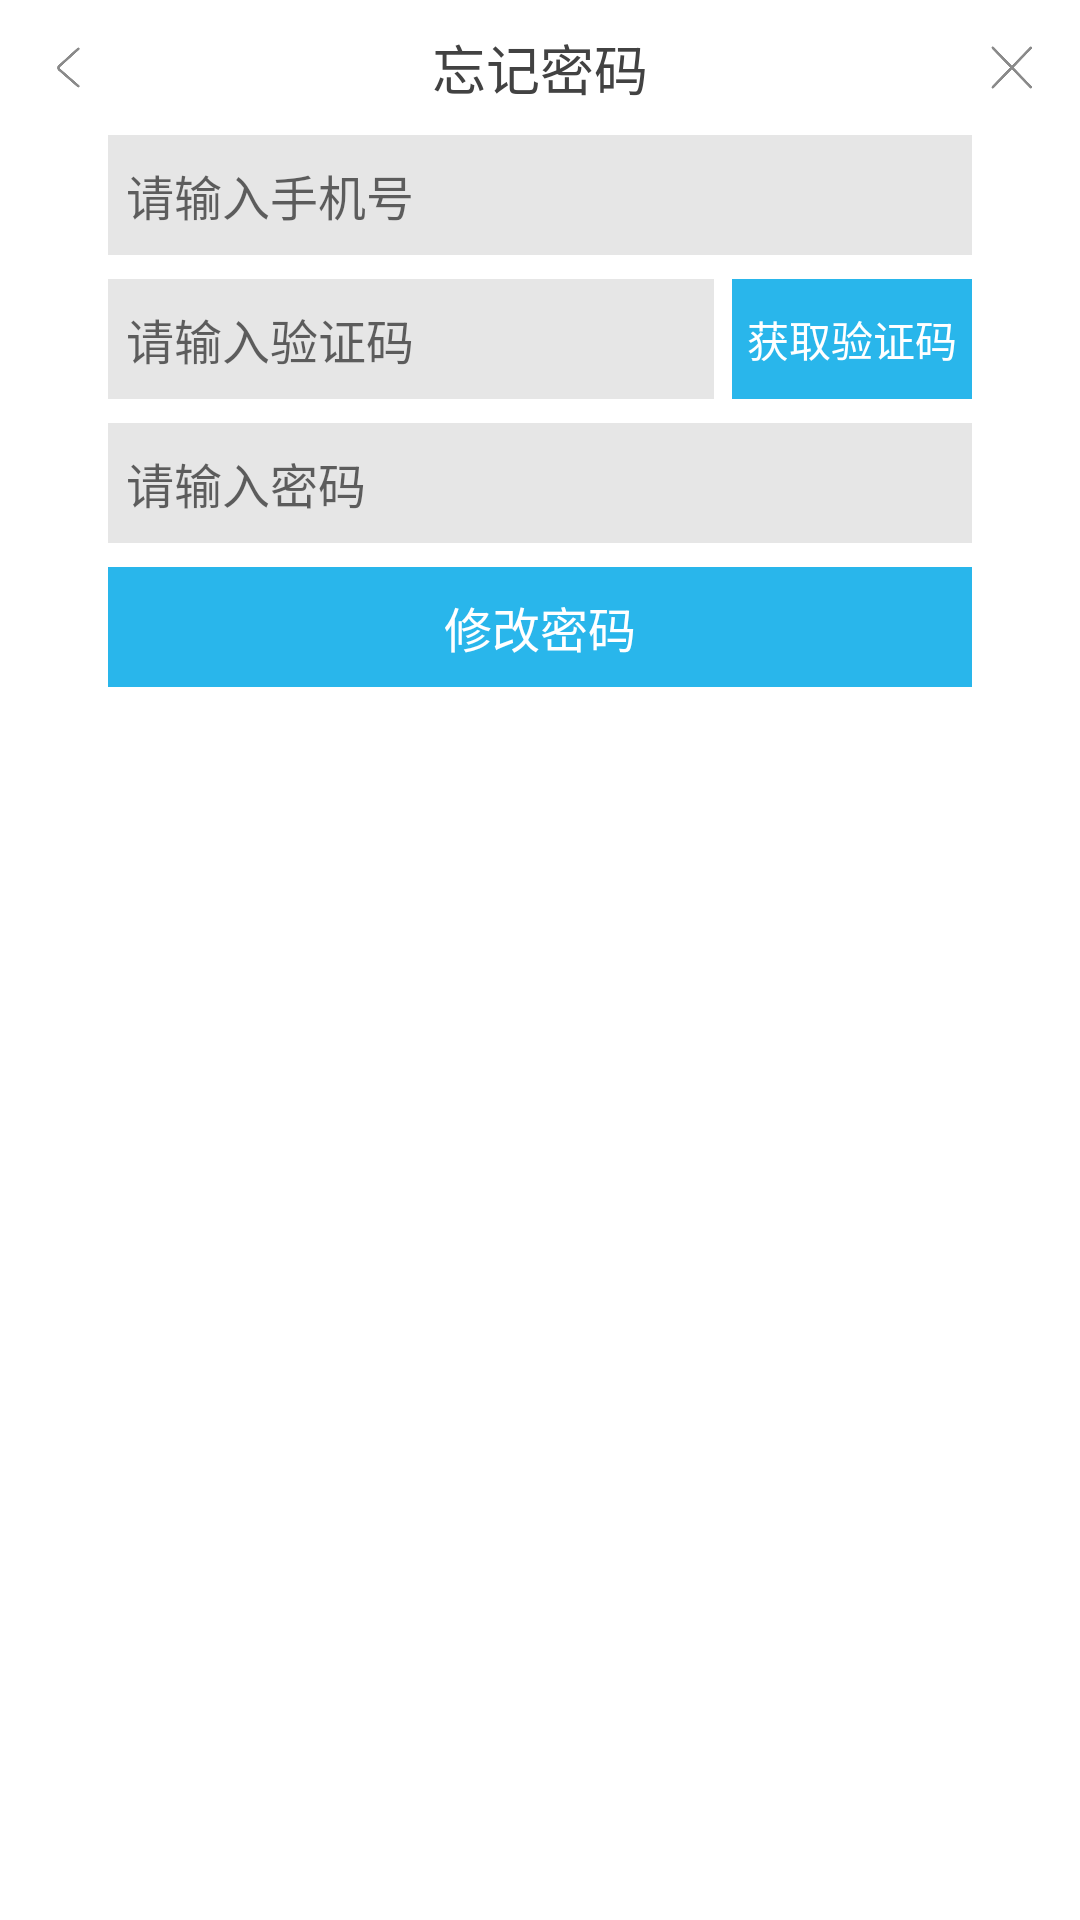

Named icons in this screenshot (1080px×1920px) and their bounding boxes, bbox=[x1, y1, x2, y2]:
关闭: bbox=[991, 46, 1032, 89]
返回: bbox=[57, 47, 80, 88]
